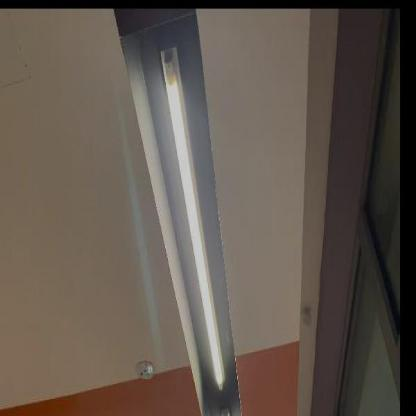light_on: (153, 32, 230, 400)
